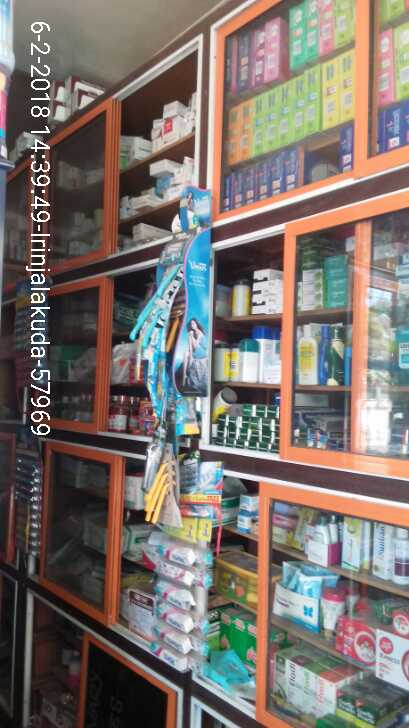reject: (202, 274, 318, 352)
